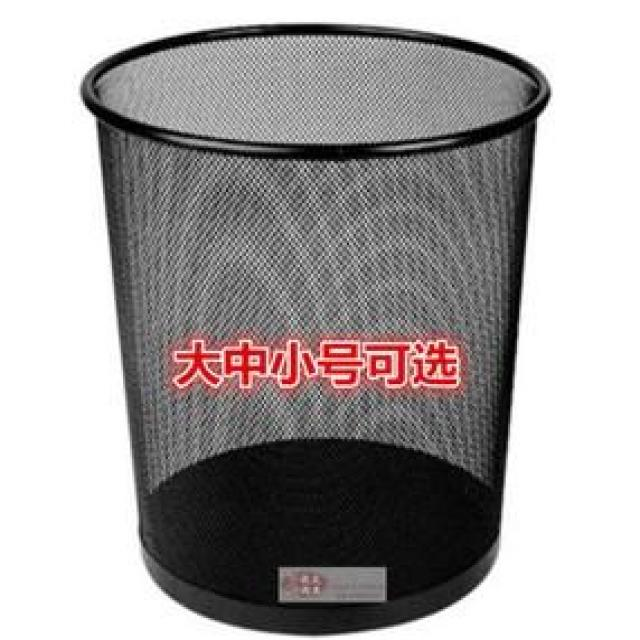Dustbin: (75, 14, 555, 639)
